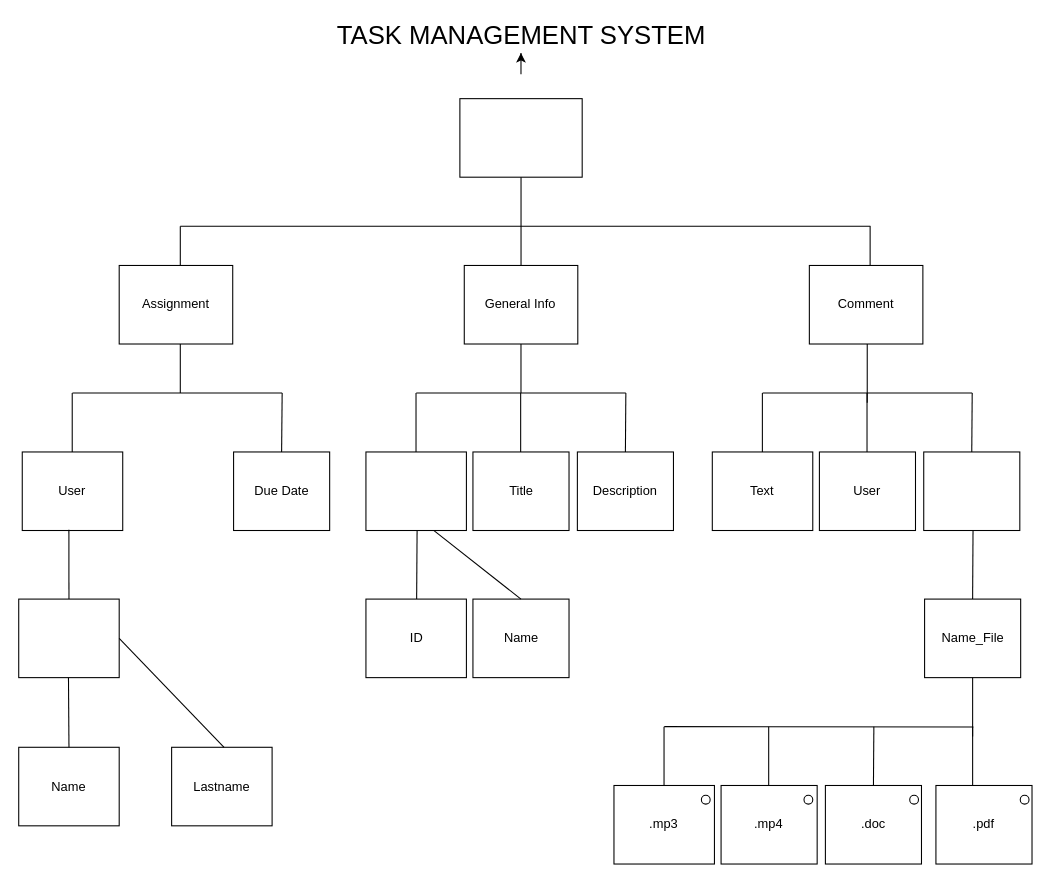
Some shapes in this 1051 by 883 pixel diagram are drawn without their labels. Here are the shapes that lost their labels. From the top down, the box of each, then its label:
(459, 98, 582, 177): Task
(365, 451, 466, 531): Project
(923, 451, 1020, 531): Attachment
(18, 598, 119, 678): Choose_User_Id
